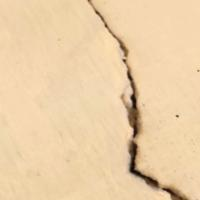crack: (78, 0, 199, 199)
